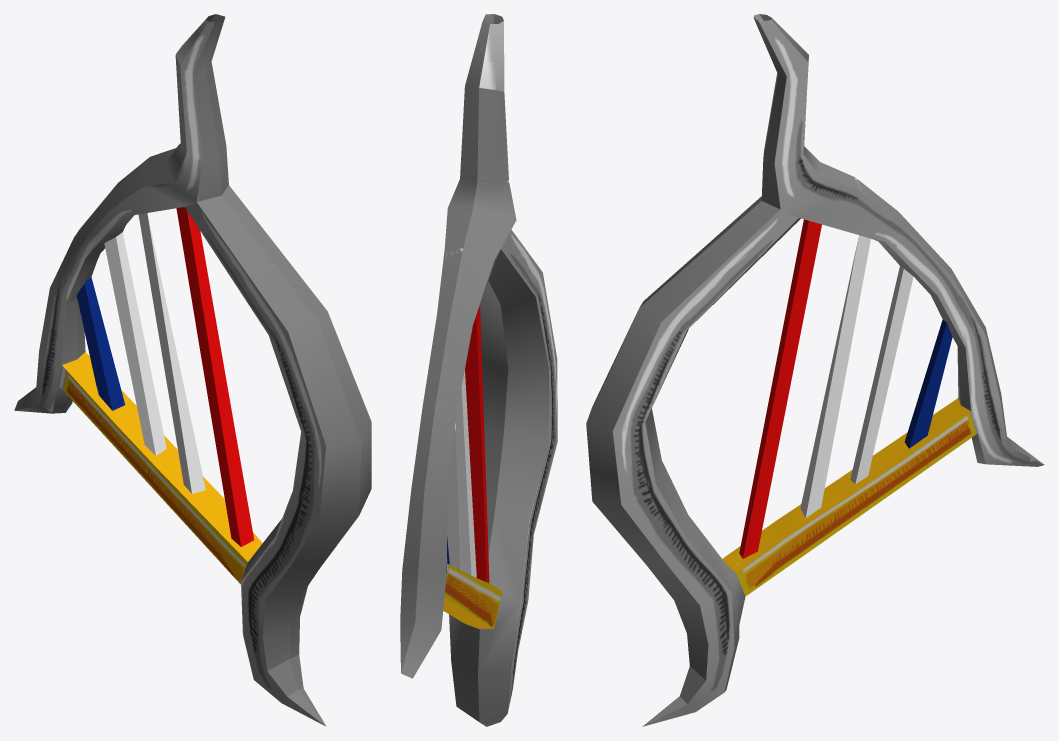
File: Arpa1_000015.obj
The picture shows the model from 3 angles, left to right: view 1: azimuth 30°, elevation 25°; view 2: azimuth 150°, elevation 25°; view 3: azimuth 270°, elevation 25°; orthographic projection. The views are drawn at different scales.
Visible parts, largest first — view 1: a1_pCube7.001; view 2: a1_pCube7.001; view 3: a1_pCube7.001.
Part boxes in pixels (x1,y1,x2,y2): a1_pCube7.001: (14, 14, 371, 726); a1_pCube7.001: (400, 14, 557, 726); a1_pCube7.001: (586, 14, 1044, 726).
Bounding box in the file's own units: 2.45 × 10.54 × 6.4.
